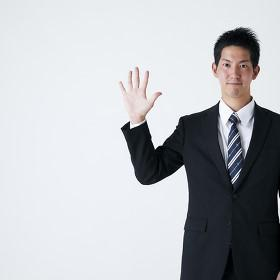pa-: (116, 66, 163, 118)
